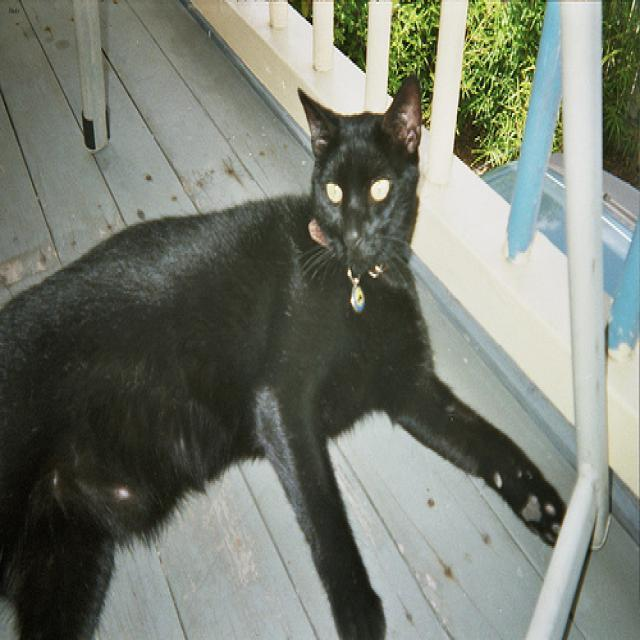Bombay: (294, 70, 438, 275)
